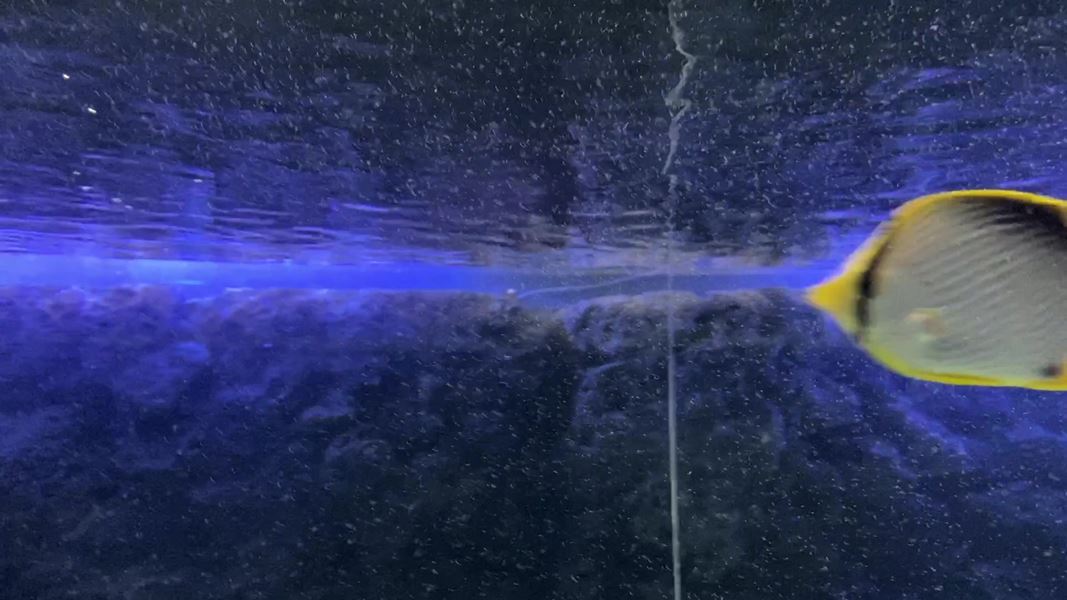Black-backed butterflyfish: (792, 175, 1067, 408)
